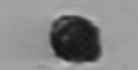plankton: (47, 11, 106, 66)
